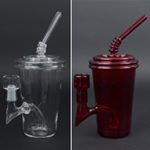cups: (86, 52, 141, 142), (13, 53, 67, 141)
